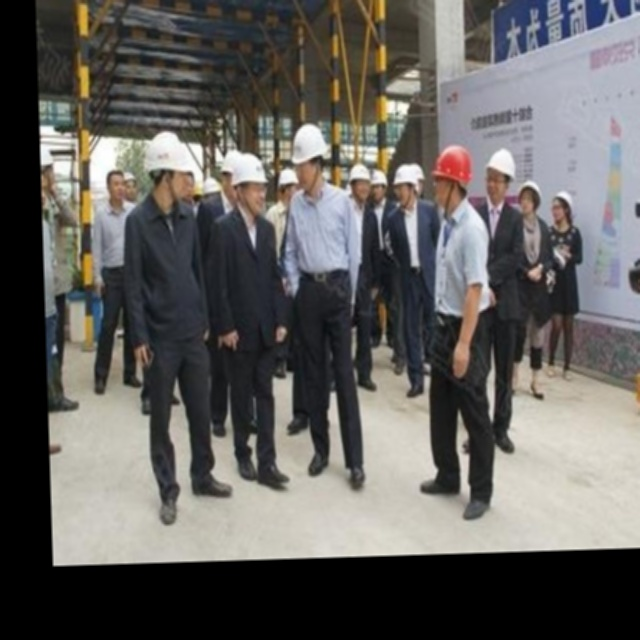Con_Casco: (430, 143, 474, 210), (291, 122, 328, 193), (230, 153, 270, 216)
Sin_Casco_Mascarrilla: (105, 168, 129, 209)
